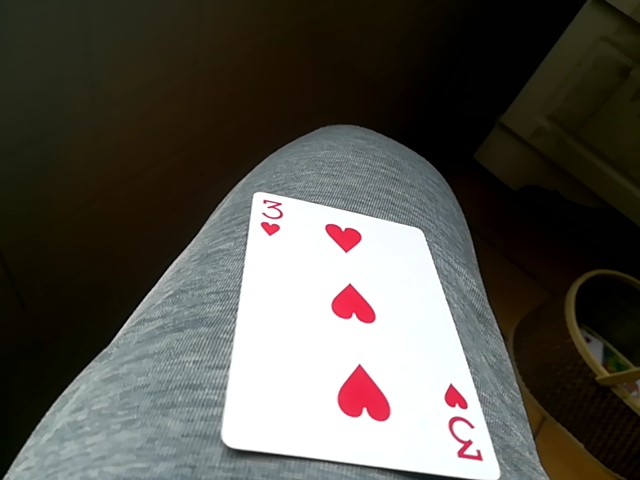hx 3: (227, 185, 492, 480)
